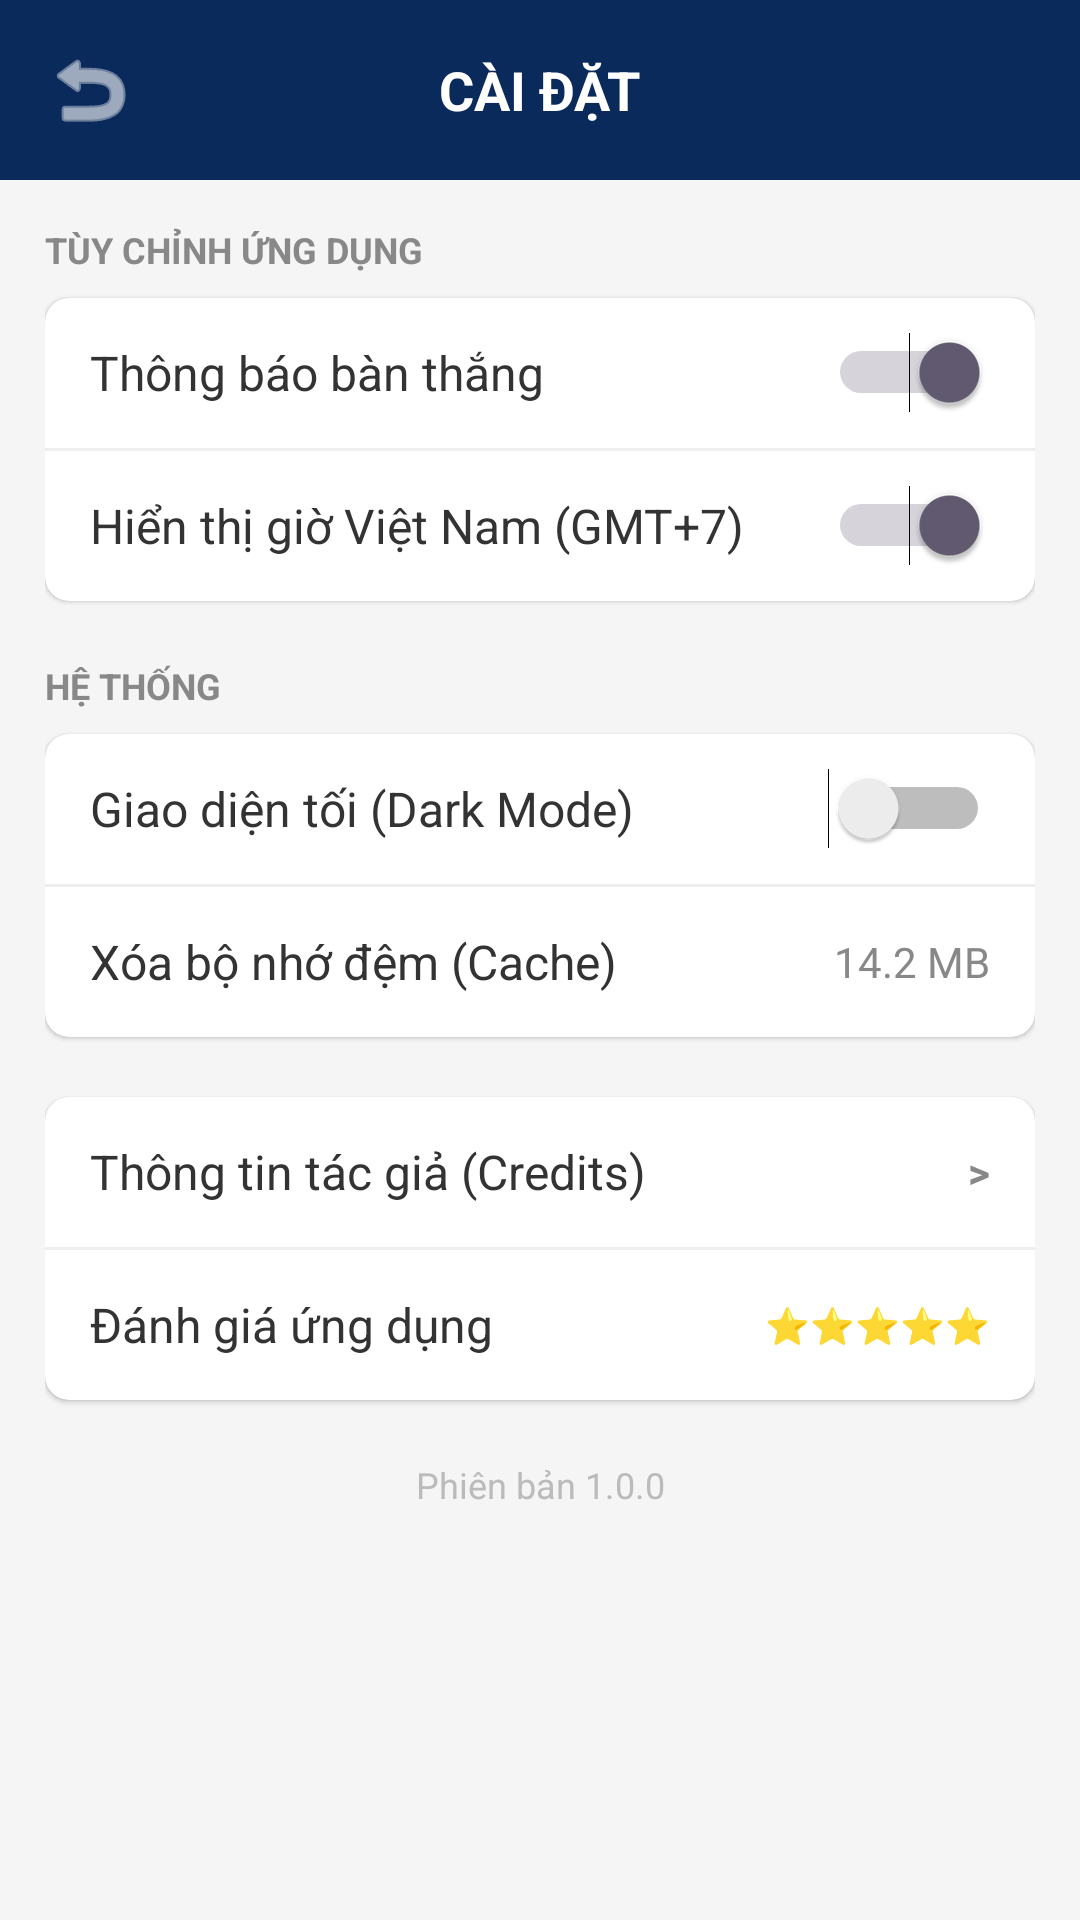

Icon click points for this 1080 x 1920 phone screenshot, format [x,y]:
revert: [91,90]
